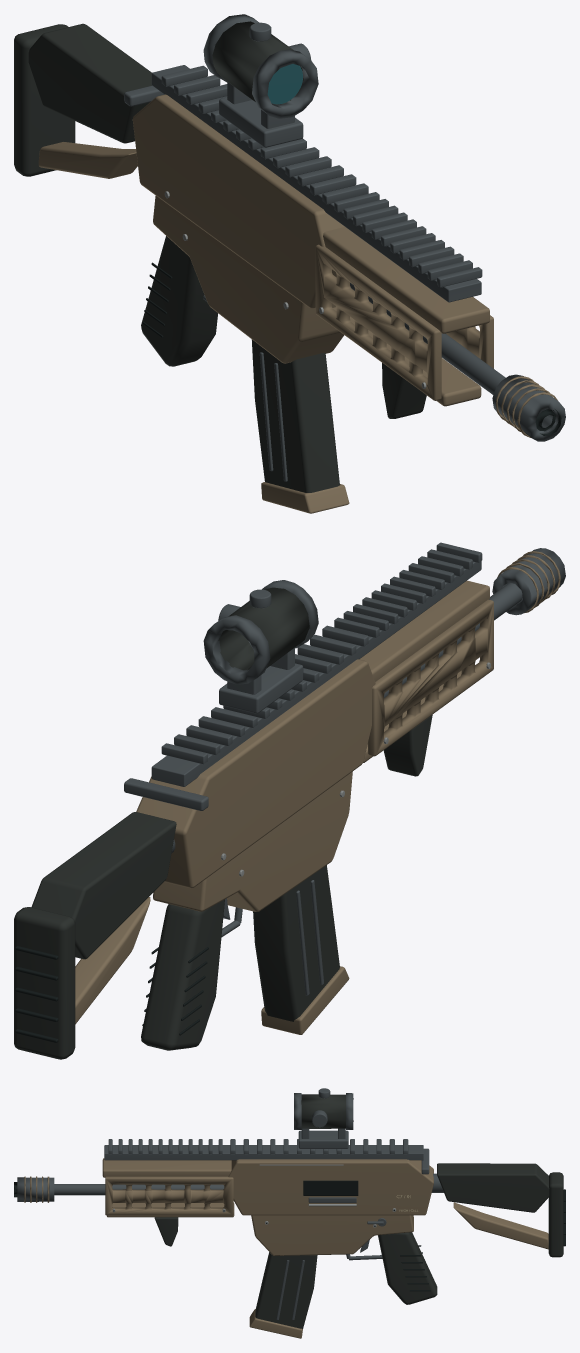
File: m3_smg.glb
3 renders of one model, top to bottom at view 1: azimuth 30°, elevation 25°; view 2: azimuth 150°, elevation 25°; view 3: azimuth 270°, elevation 25°, orthographic. The views are drawn at different scales.
Parts seen in each view (by area): view 1: m3_smg_nc7_coating, m3_smg_nc7_polymer, m3_smg_nc7_alloy, m3_smg_nc7_lens, m3_smg_nc7_dark; view 2: m3_smg_nc7_coating, m3_smg_nc7_polymer, m3_smg_nc7_alloy, m3_smg_nc7_dark; view 3: m3_smg_nc7_coating, m3_smg_nc7_polymer, m3_smg_nc7_alloy, m3_smg_nc7_dark, m3_smg_nc7_edge.
Part boxes in pixels (bbox=[...]): m3_smg_nc7_coating: bbox=[38, 94, 557, 513]; m3_smg_nc7_polymer: bbox=[14, 21, 426, 492]; m3_smg_nc7_alloy: bbox=[124, 14, 565, 481]; m3_smg_nc7_lens: bbox=[267, 64, 302, 104]; m3_smg_nc7_dark: bbox=[142, 262, 561, 435]; m3_smg_nc7_coating: bbox=[75, 551, 560, 1034]; m3_smg_nc7_polymer: bbox=[14, 587, 432, 1059]; m3_smg_nc7_alloy: bbox=[124, 542, 565, 995]; m3_smg_nc7_dark: bbox=[15, 946, 208, 1042]; m3_smg_nc7_coating: bbox=[24, 1158, 548, 1338]; m3_smg_nc7_polymer: bbox=[154, 1094, 563, 1328]; m3_smg_nc7_alloy: bbox=[17, 1088, 443, 1319]; m3_smg_nc7_dark: bbox=[14, 1180, 565, 1291]; m3_smg_nc7_edge: bbox=[112, 1164, 395, 1227].
Bounding box in the file's own units: 0.0765 × 0.4145 × 0.8521.
